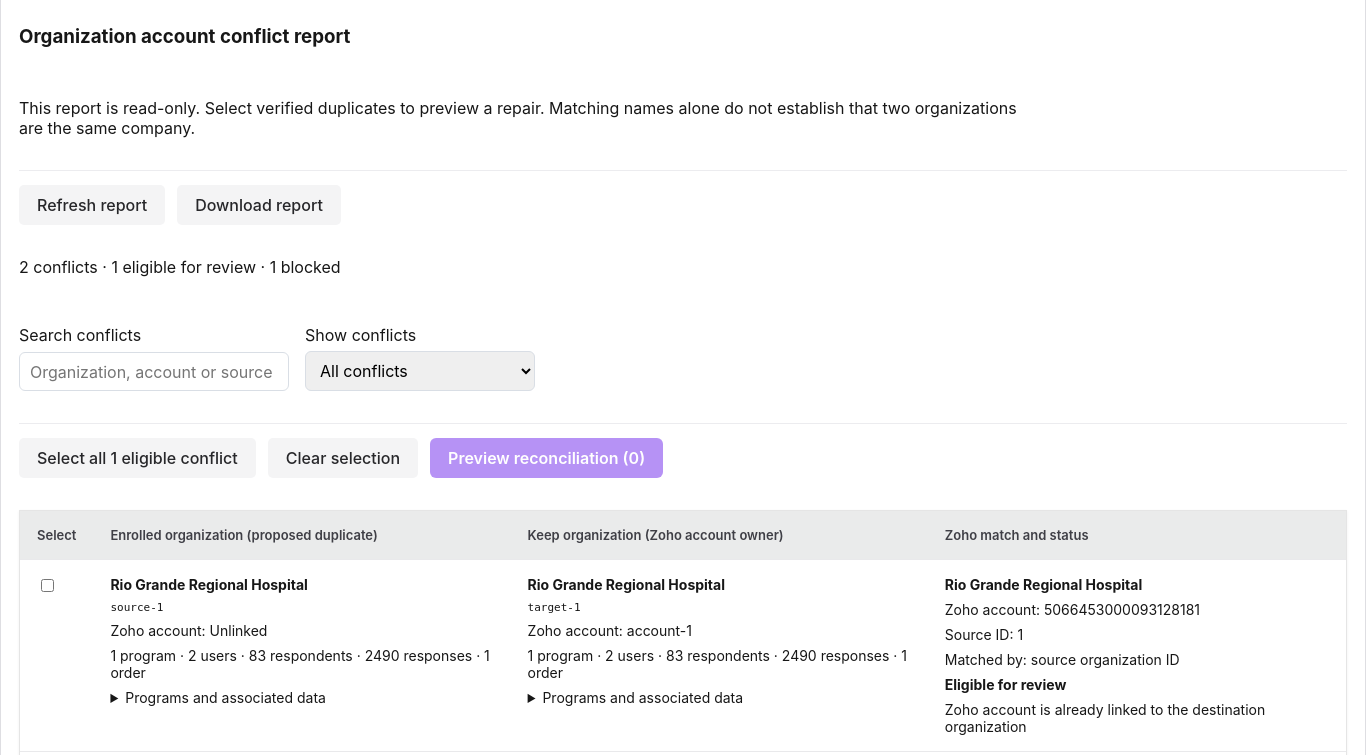
Test: organization reconciliation › discards stale previews and requires a fresh preview after an apply error
Click the button "Select all 1 eligible conflict": (137, 458) [19, 438, 256, 478]
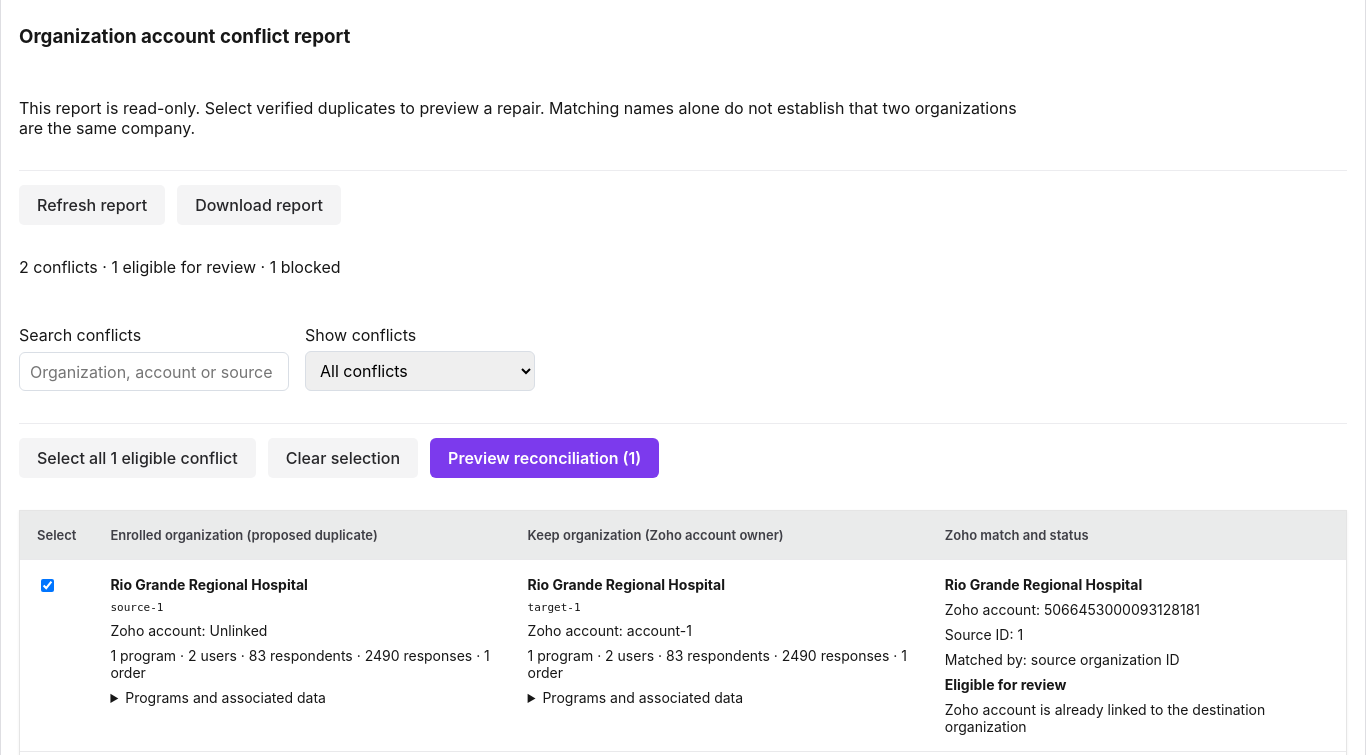
Click the button "Preview reconciliation (1)": (545, 458) [430, 438, 659, 478]
(page scrolled)
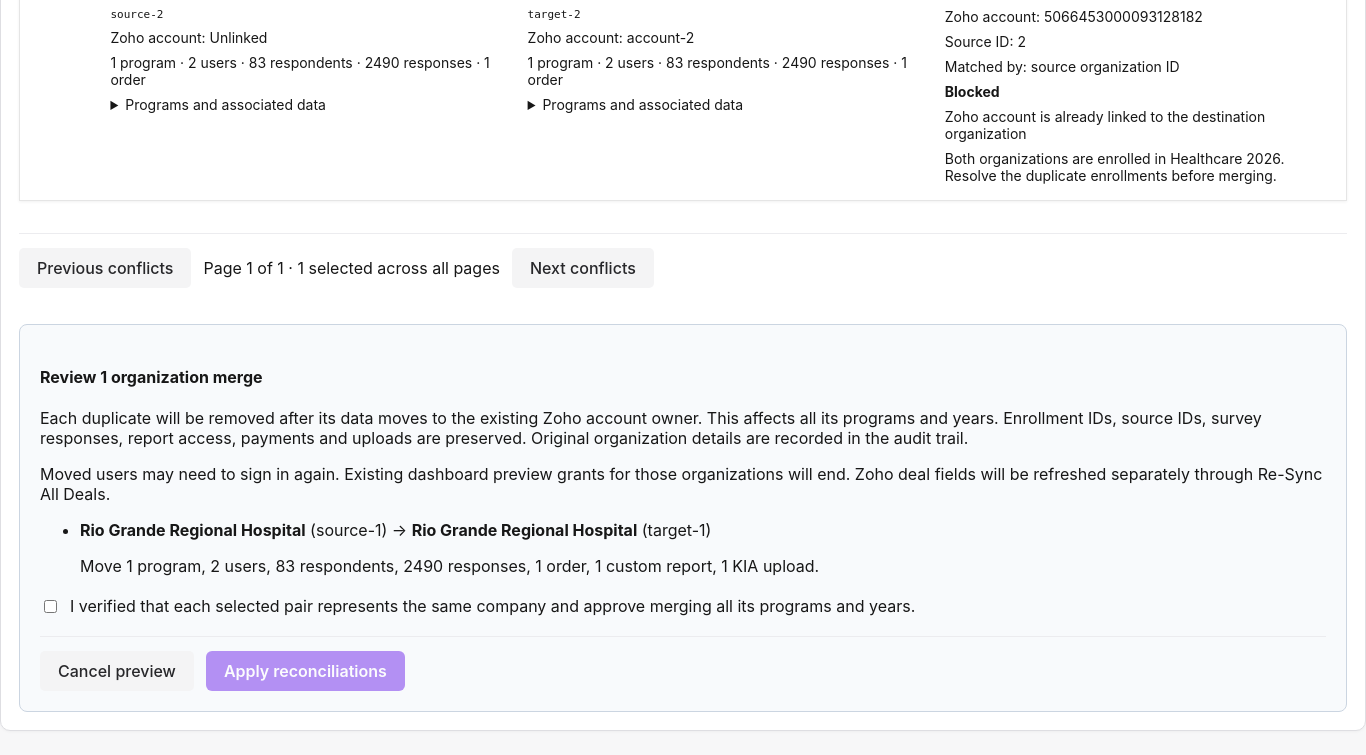
Click the checkbox labelled "I verified": (50, 606) [44, 600, 57, 613]
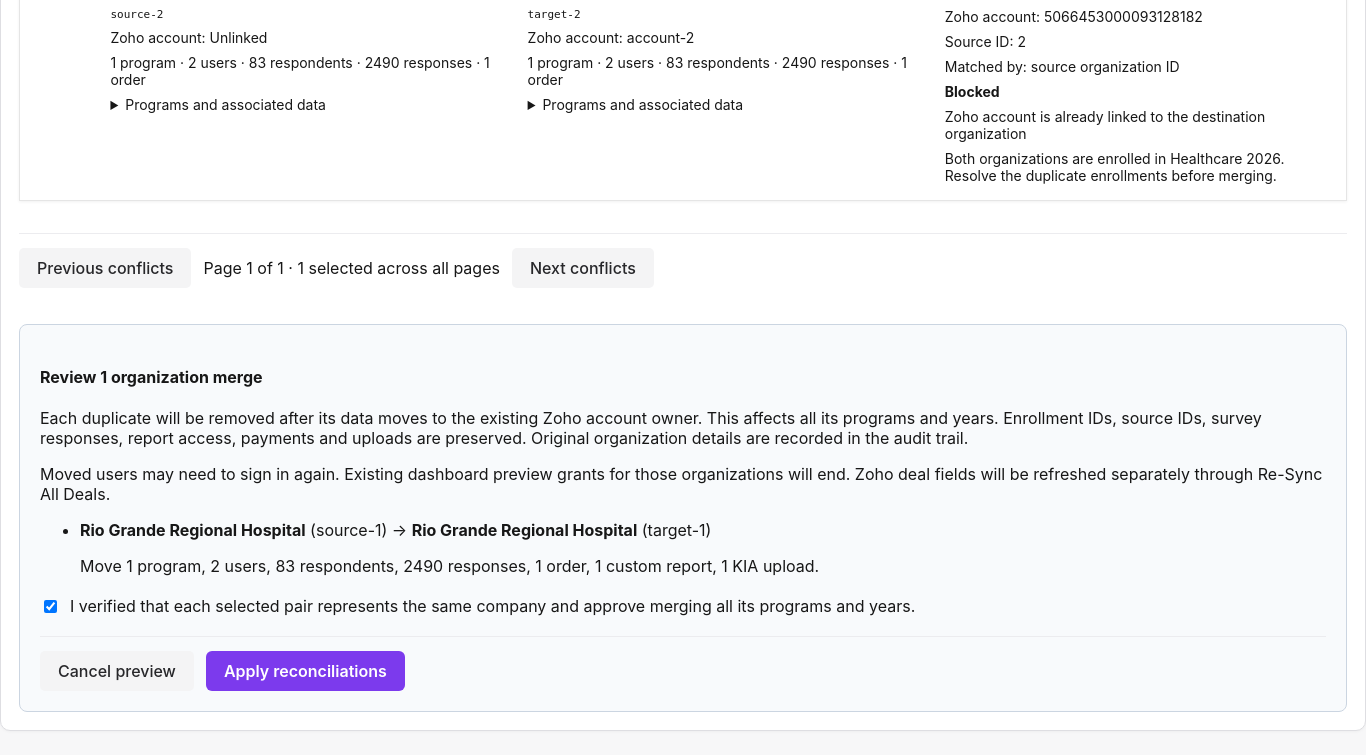
Click the button "Apply reconciliations": (305, 671) [206, 651, 405, 691]
(page scrolled)
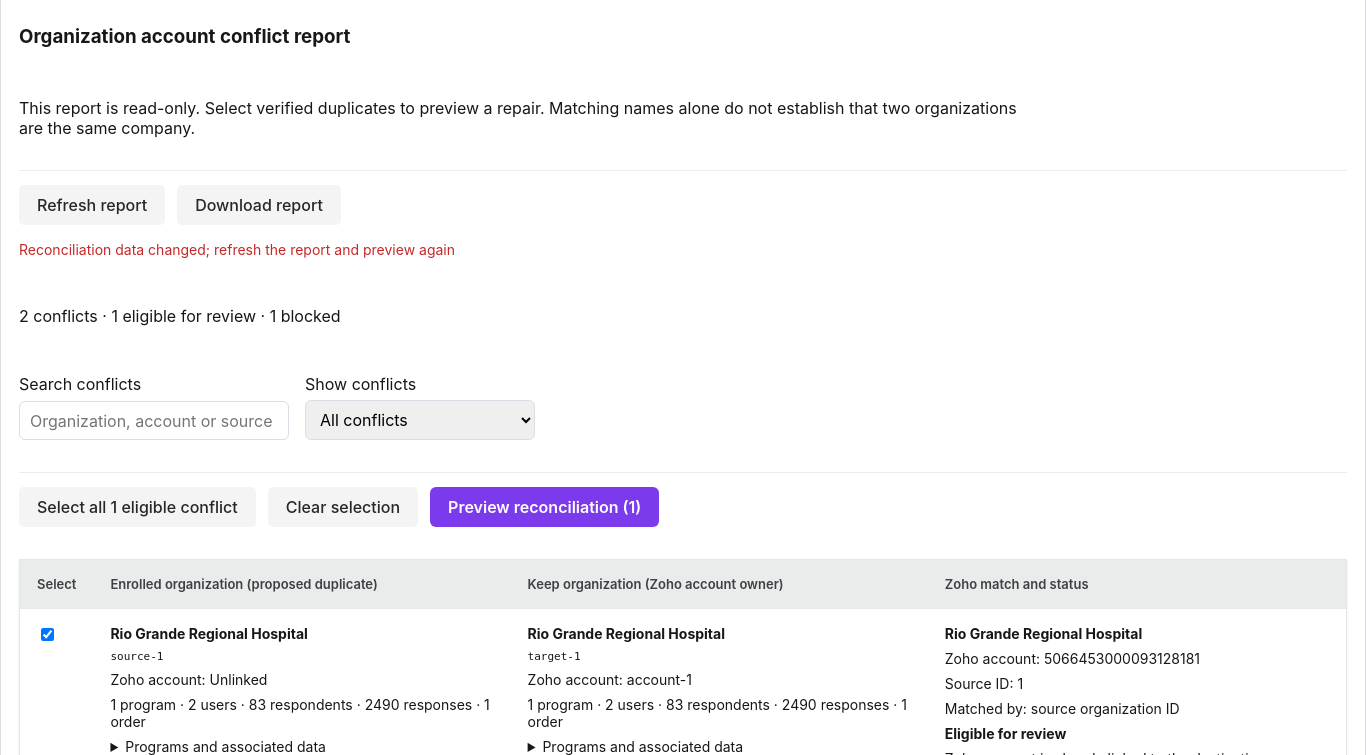
Check: the message shows "data changed", box [19, 241, 455, 258]
Check: the button "Apply reconciliations" is gone
